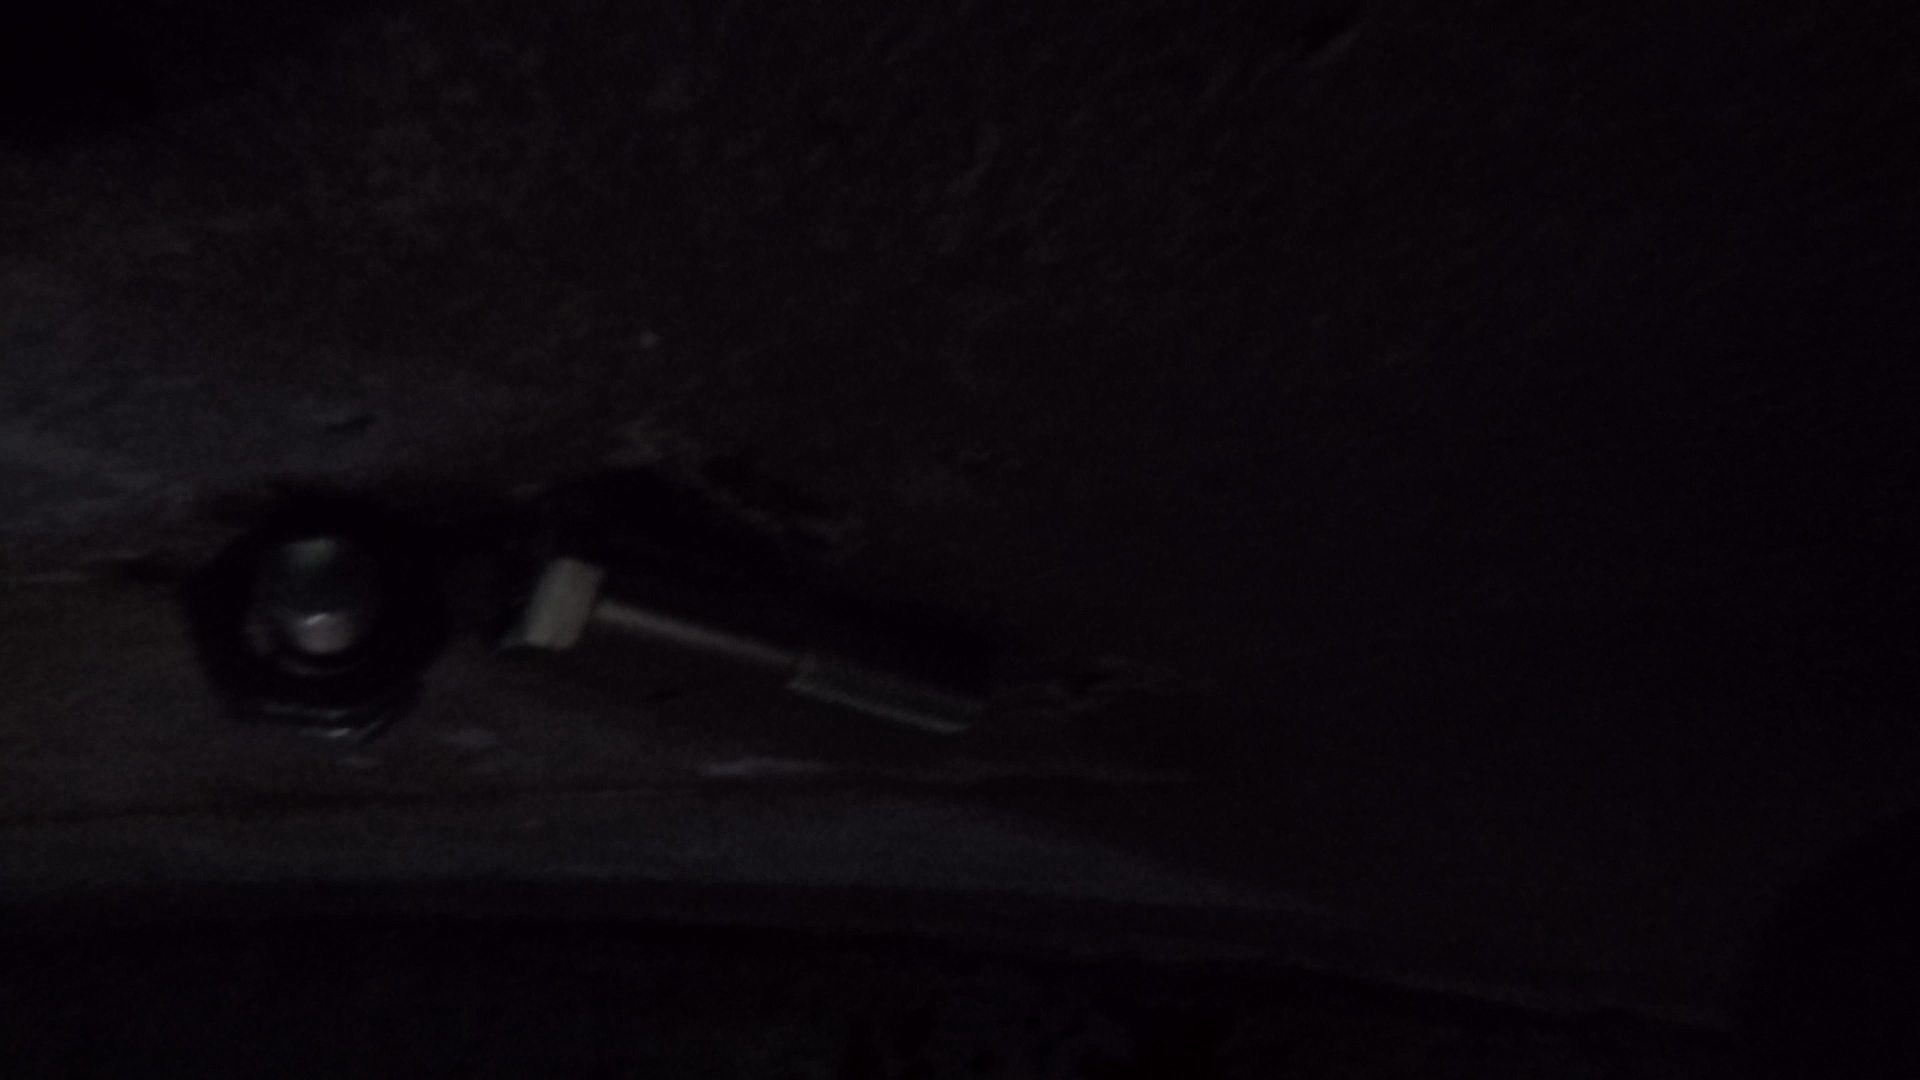bolt: (489, 520, 996, 738), (268, 534, 357, 663)
nut: (185, 487, 456, 727)
